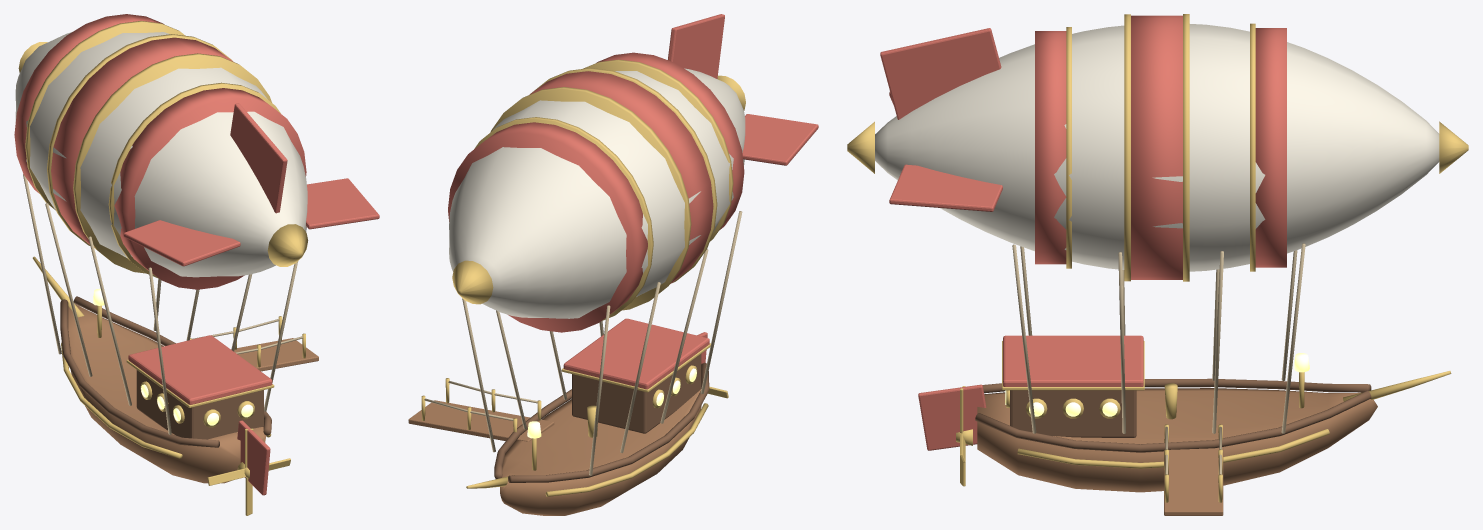
File: sky_airship.glb
The picture shows the model from 3 angles, left to right: view 1: azimuth 30°, elevation 25°; view 2: azimuth 150°, elevation 25°; view 3: azimuth 270°, elevation 25°; orthographic projection. The views are drawn at different scales.
Visible parts, largest first — view 1: BalloonEnvelope, AirshipHull, BalloonBand_-2.6, BalloonBand_0.0, CabinRoof, BalloonBand_-0.72, CabinBody, FinPort, BalloonBand_2.8, FinTop, FinStbd, BalloonBand_2.35 (+14 smaller); view 2: BalloonEnvelope, AirshipHull, BalloonBand_2.8, BalloonBand_0.0, CabinRoof, CabinBody, BalloonBand_0.72, BalloonBand_-2.6, FinPort, GangplankDeck, FinTop, GunwaleRail_-1.0 (+13 smaller); view 3: BalloonEnvelope, AirshipHull, BalloonBand_0.0, BalloonBand_2.8, CabinRoof, BalloonBand_-2.6, FinTop, CabinBody, GangplankDeck, GunwaleRail_1.0, FinStbd, RudderFin (+13 smaller).
Part boxes in pixels (box(x1,y1,x2,y2)): BalloonEnvelope: box(15, 32, 307, 277); AirshipHull: box(68, 304, 266, 483); BalloonBand_-2.6: box(114, 88, 306, 289); BalloonBand_0.0: box(51, 37, 233, 247); CabinRoof: box(128, 335, 272, 404); BalloonBand_-0.72: box(73, 53, 271, 273); CabinBody: box(136, 370, 263, 439); FinPort: box(123, 220, 240, 266); BalloonBand_2.8: box(14, 14, 164, 193); FinTop: box(230, 103, 287, 213); FinStbd: box(306, 178, 379, 229); BalloonBand_2.35: box(25, 21, 184, 210); BalloonEnvelope: box(449, 68, 745, 318); AirshipHull: box(500, 389, 701, 515); BalloonBand_2.8: box(448, 122, 647, 332); BalloonBand_0.0: box(529, 71, 713, 283); CabinRoof: box(563, 318, 709, 389); CabinBody: box(572, 354, 701, 433); BalloonBand_0.72: box(490, 87, 691, 310); BalloonBand_-2.6: box(596, 52, 744, 230); FinPort: box(742, 114, 818, 165); GangplankDeck: box(408, 400, 554, 441); FinTop: box(668, 14, 724, 78); GunwaleRail_-1.0: box(508, 362, 709, 482); BalloonEnvelope: box(875, 24, 1439, 271); AirshipHull: box(977, 388, 1377, 492); BalloonBand_0.0: box(1131, 15, 1182, 279); BalloonBand_2.8: box(1255, 28, 1286, 267); CabinRoof: box(1003, 335, 1143, 386); BalloonBand_-2.6: box(1035, 31, 1066, 264); FinTop: box(880, 28, 1001, 119); CabinBody: box(1010, 390, 1136, 437); GangplankDeck: box(1164, 438, 1223, 515); GunwaleRail_1.0: box(975, 390, 1371, 452); FinStbd: box(889, 164, 1002, 211); RudderFin: box(918, 384, 986, 450).
Size of the model in its own units: 8.71 by 12.39 by 15.23.
